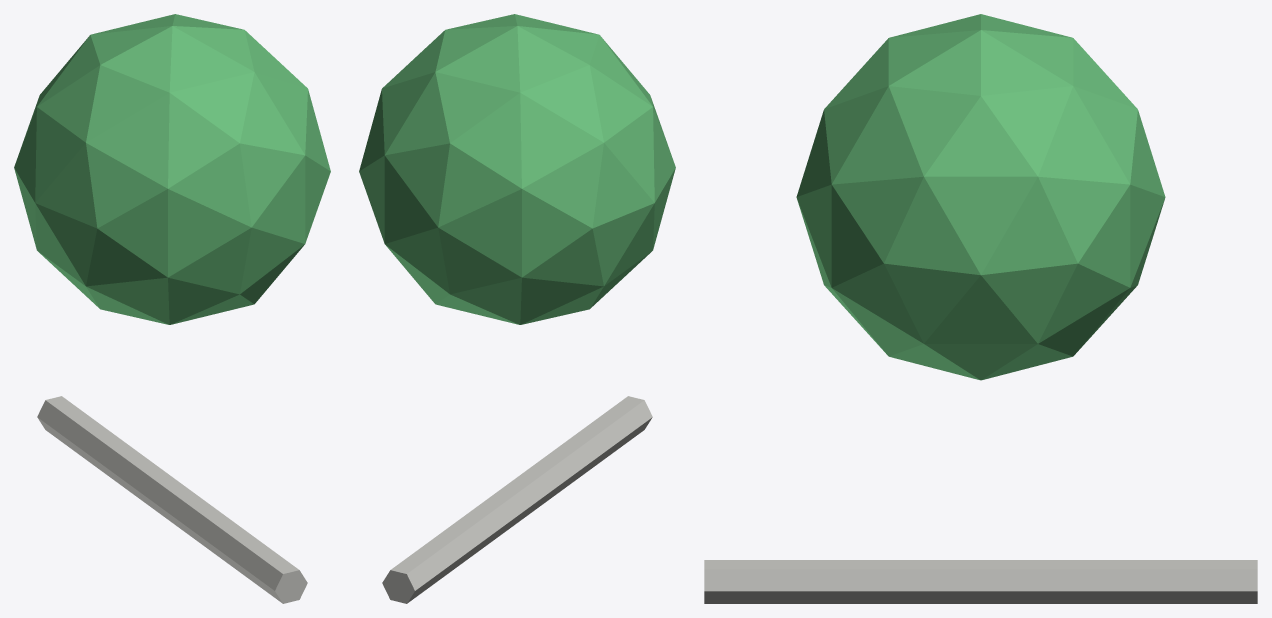
Rendered from tree_birch.glb.
The picture shows the model from 3 angles, left to right: view 1: azimuth 30°, elevation 25°; view 2: azimuth 150°, elevation 25°; view 3: azimuth 270°, elevation 25°; orthographic projection. The views are drawn at different scales.
Visible parts, largest first — view 1: world; view 2: world; view 3: world.
Part boxes in pixels (x1,y1,x2,y2): world: (14,14,330,603); world: (359,14,675,603); world: (704,14,1257,603).
Bounding box in the file's own units: 2 × 3.4 × 3.
